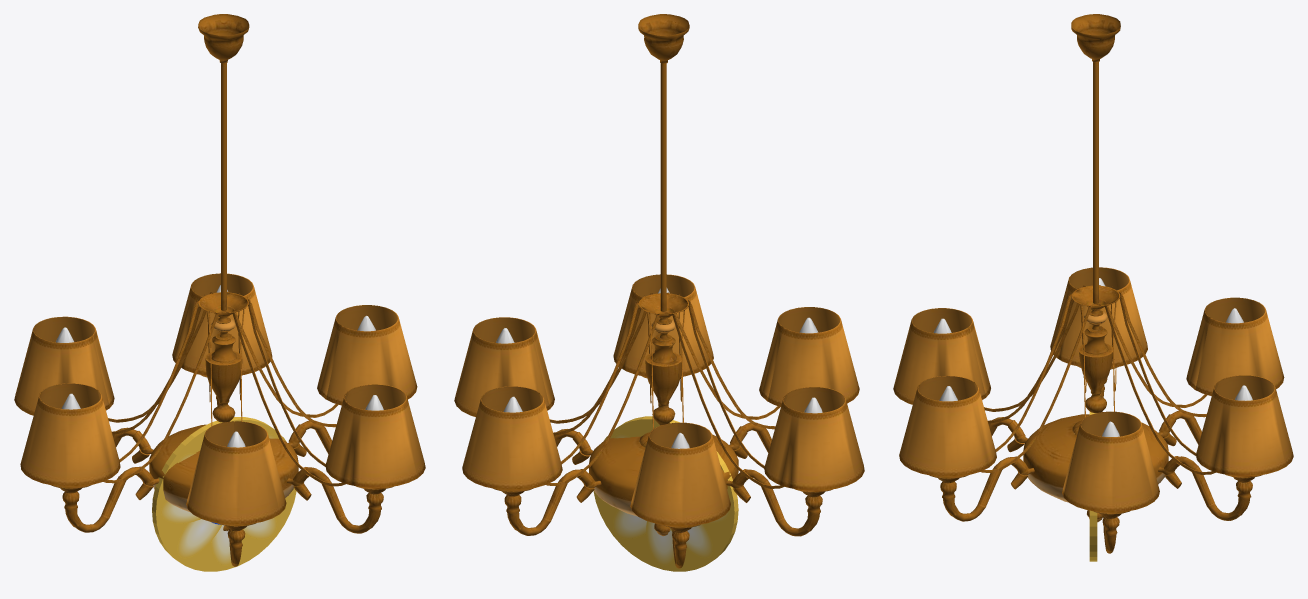
Rendered from nyb_th_chandelier.glb.
3 renders of one model, left to right at view 1: azimuth 30°, elevation 25°; view 2: azimuth 150°, elevation 25°; view 3: azimuth 270°, elevation 25°, orthographic. The views are drawn at different scales.
Visible parts, largest first — view 1: Chandelier_02, Cylinder, add_eyeflower_gold.png; view 2: Chandelier_02, Cylinder, add_eyeflower_gold.png; view 3: Chandelier_02.
Boxes of the visible parts, x1,y1,x2,y2 form: Chandelier_02: [14, 14, 425, 566]; Cylinder: [152, 417, 296, 571]; add_eyeflower_gold.png: [160, 434, 277, 565]; Chandelier_02: [454, 14, 864, 568]; Cylinder: [593, 416, 738, 571]; add_eyeflower_gold.png: [613, 426, 729, 565]; Chandelier_02: [893, 14, 1293, 553].
Size of the model in its own units: 0.6791 by 0.9038 by 0.6194.
Materials: 4 (2 with a texture image).
